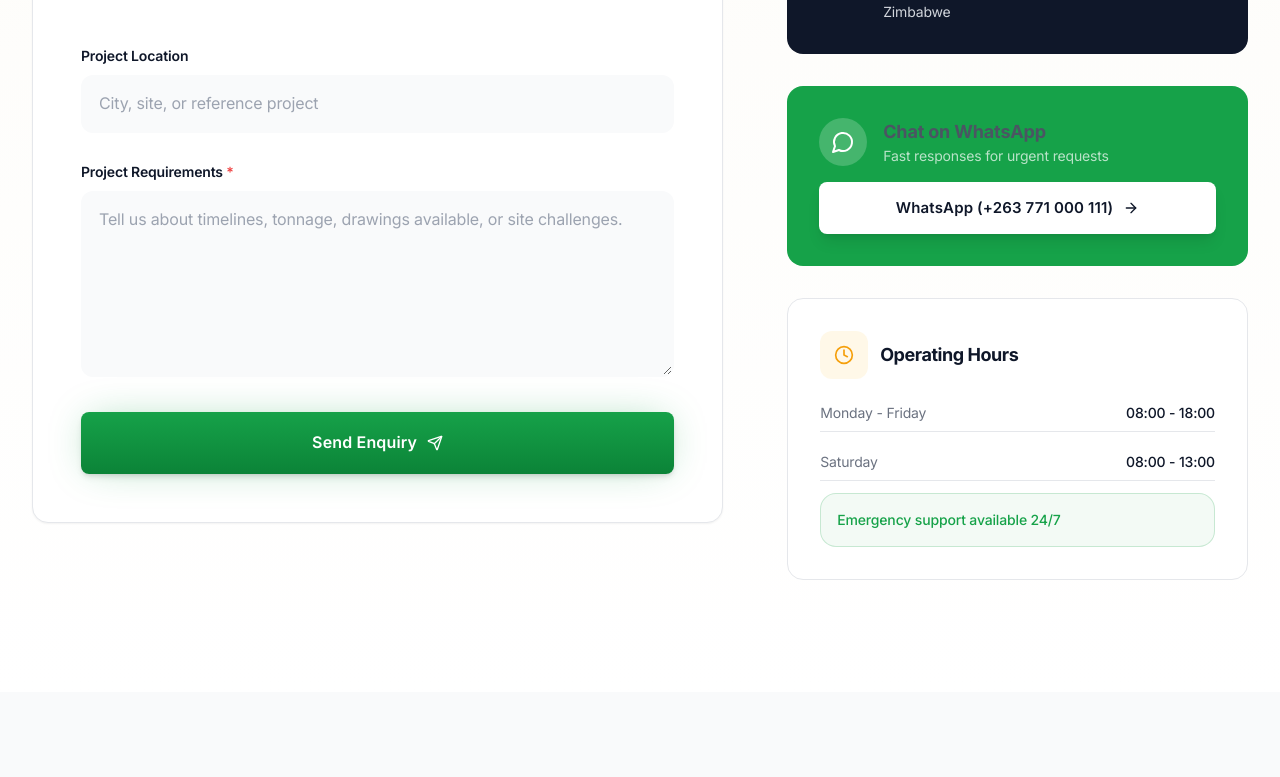
Test: ContactPage › shows validation error for empty full name
(page scrolled)
Click the button "Send Enquiry" at (378, 443), box [81,412,674,474]
(page scrolled)
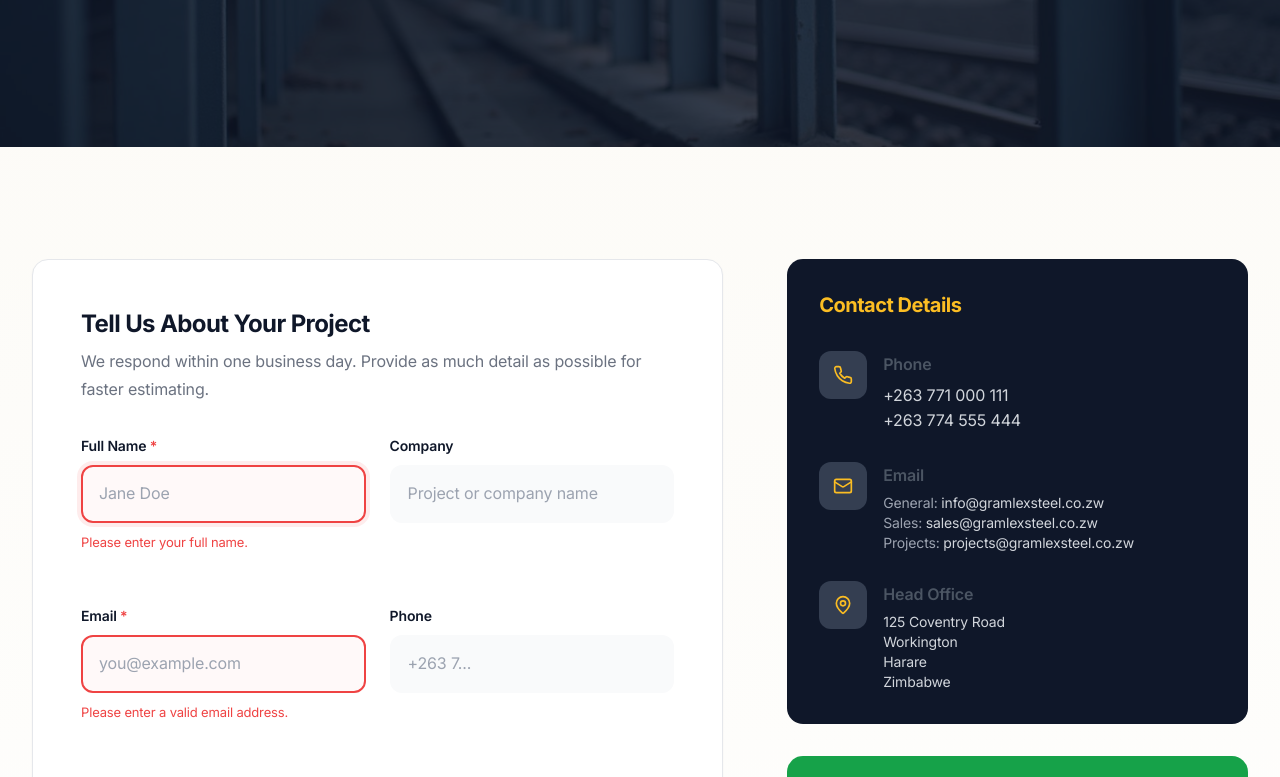
Now the text "Please enter your full name." is shown, box [81,534,248,550]
